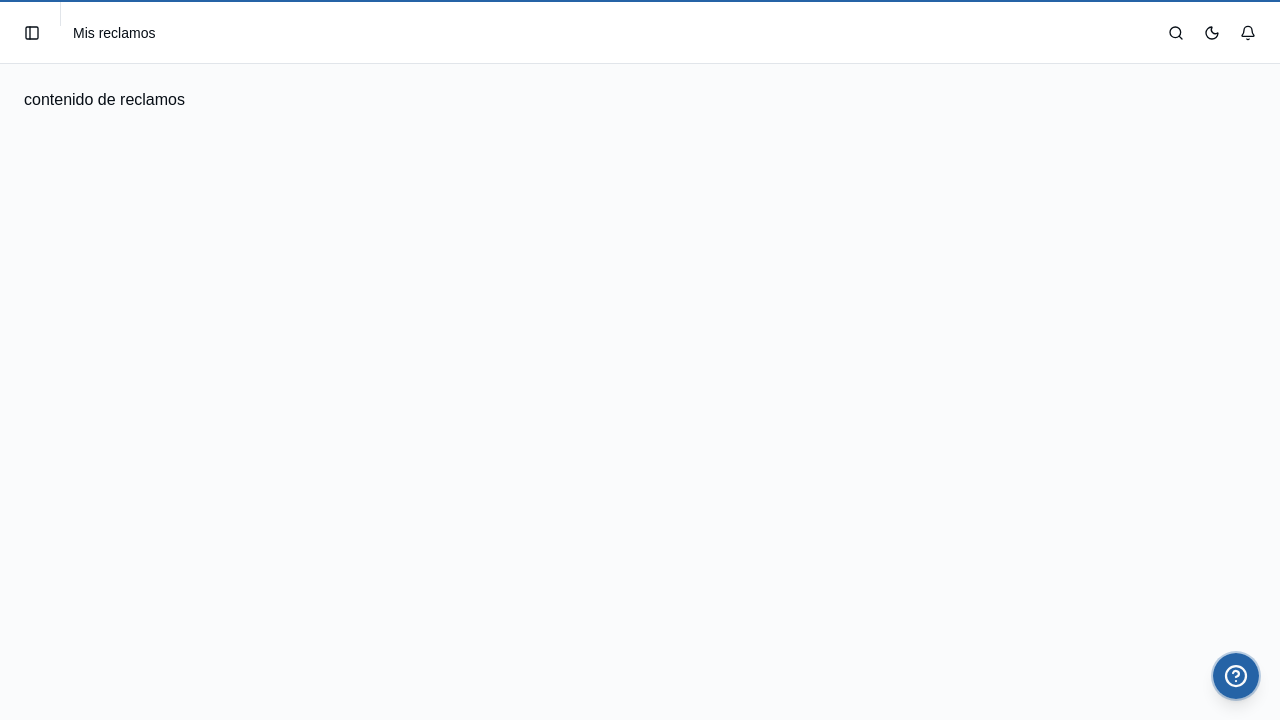
Test: AppLayout › navega a la bandeja desde Ver todas
Click the button named "Notificaciones": (1248, 32) [1232,16,1264,48]
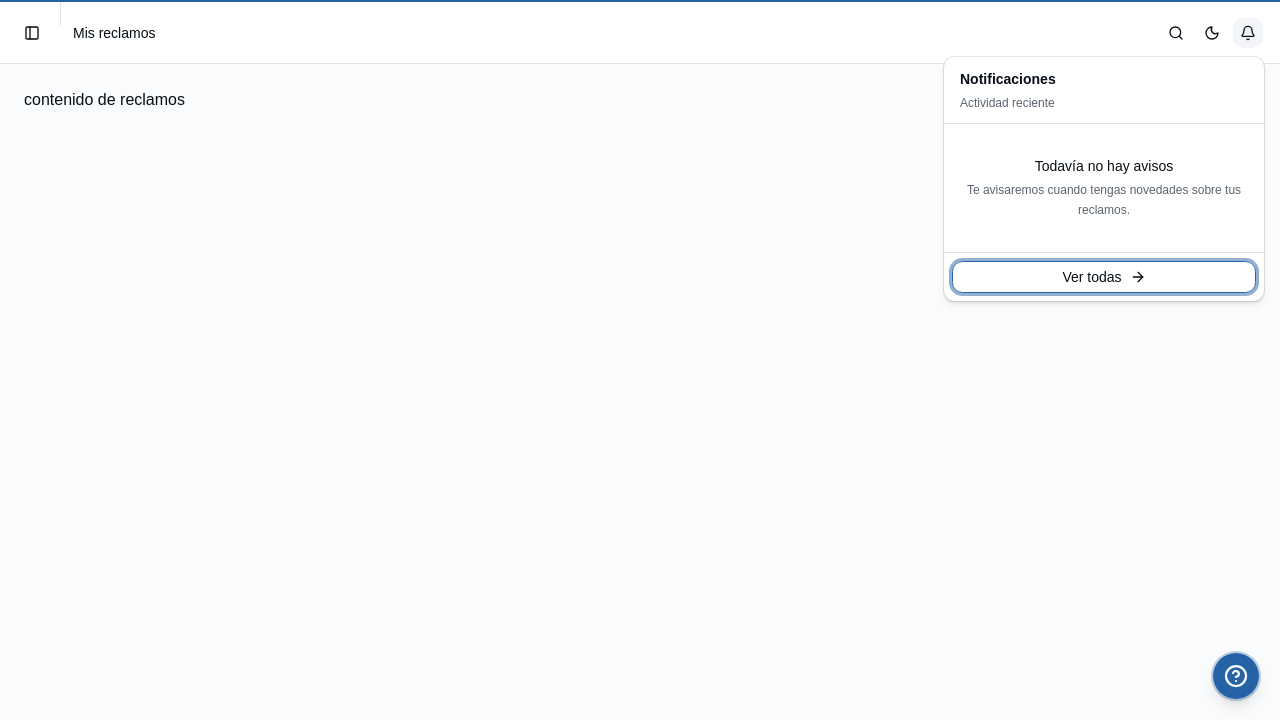
Click the button "Ver todas": (1104, 277) [952,261,1256,293]
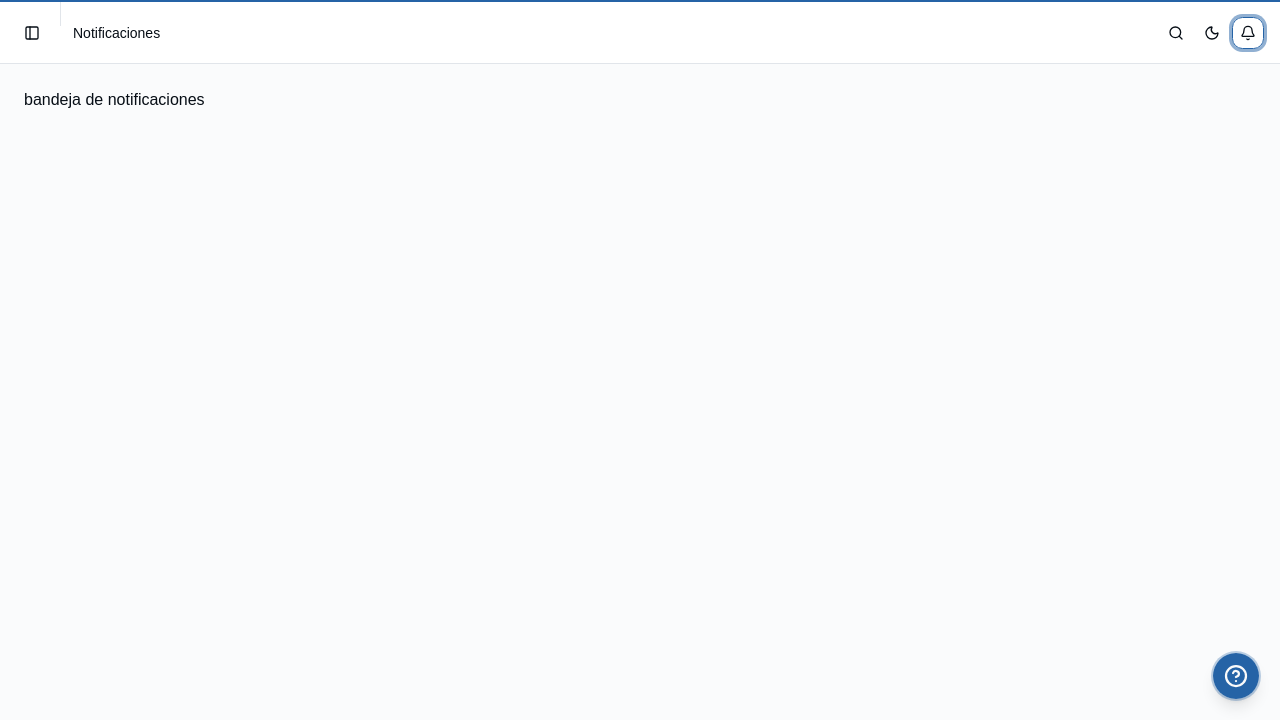
Result: the text "bandeja de notificaciones" is shown at [24,91,205,108]
